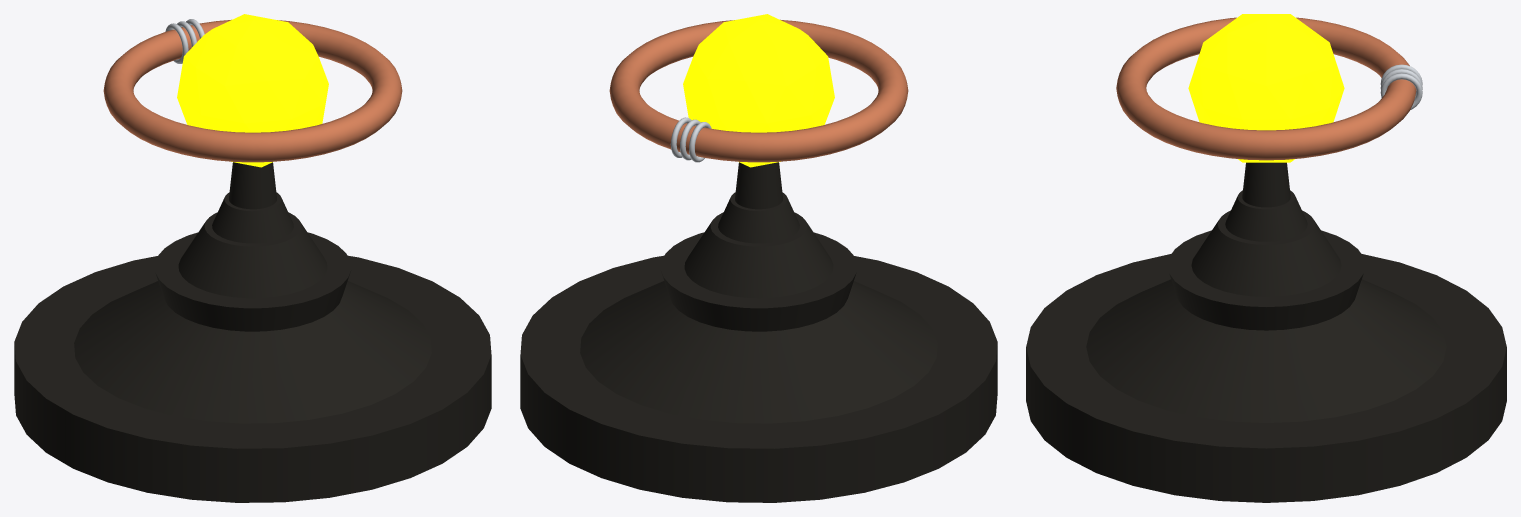
The model's file is zap_L1.fbx.
3 views of the same model, side by side, from view 1: azimuth 30°, elevation 25°; view 2: azimuth 150°, elevation 25°; view 3: azimuth 270°, elevation 25° (orthographic).
Visible parts, largest first — view 1: Circle, Torus, Icosphere; view 2: Circle, Torus, Icosphere; view 3: Circle, Torus, Icosphere.
Part boxes in pixels (bbox=[...]): Circle: bbox=[14, 162, 491, 502]; Torus: bbox=[103, 19, 402, 162]; Icosphere: bbox=[177, 14, 328, 167]; Circle: bbox=[520, 162, 997, 502]; Torus: bbox=[609, 19, 908, 162]; Icosphere: bbox=[683, 14, 834, 167]; Circle: bbox=[1026, 162, 1506, 502]; Torus: bbox=[1116, 17, 1422, 160]; Icosphere: bbox=[1188, 14, 1344, 162].
Size of the model in its own units: 160 by 141 by 160.
